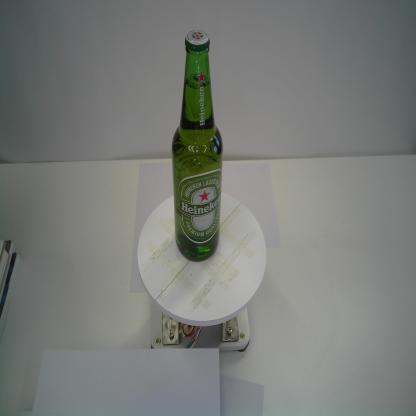Alcohol: (169, 28, 225, 263)
